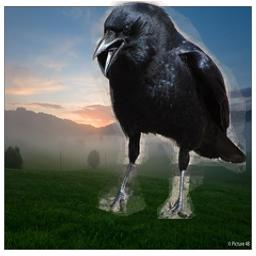Crow: (91, 1, 246, 219)
